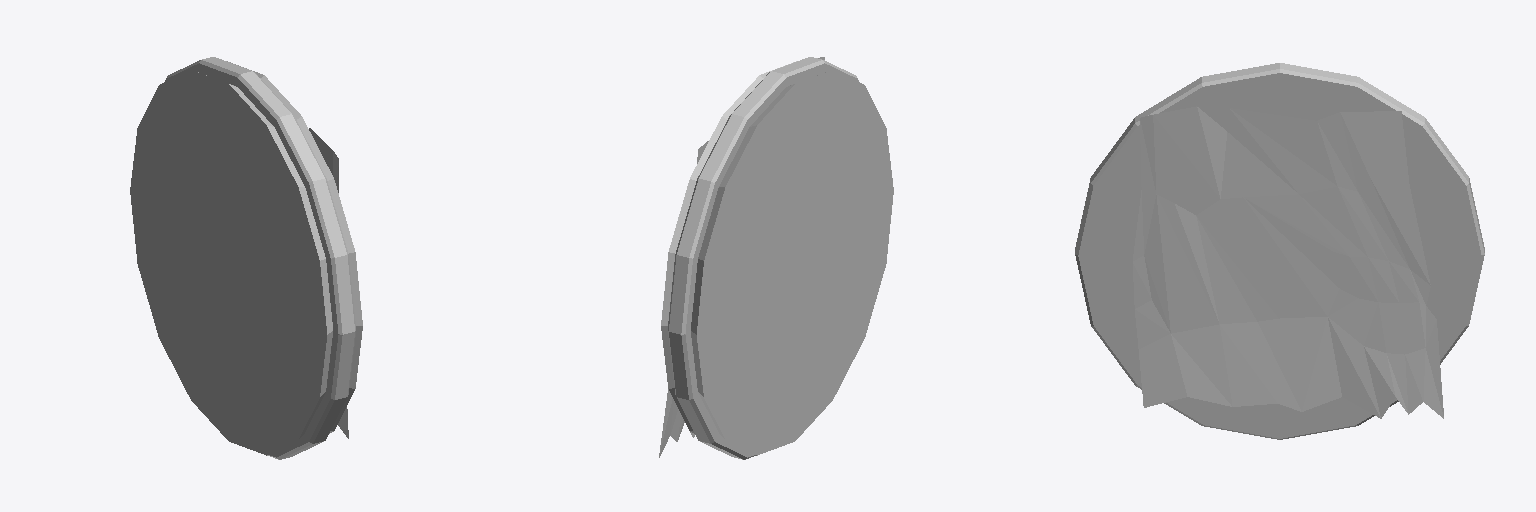
File: StatBoard.obj
The picture shows the model from 3 angles: view 1: azimuth 30°, elevation 25°; view 2: azimuth 150°, elevation 25°; view 3: azimuth 270°, elevation 25°; orthographic projection.
Visible parts, largest first — view 1: Dartboard; view 2: Dartboard; view 3: Dartboard.
Part boxes in pixels (left/top/right/bottom): Dartboard: left=130, top=57, right=362, bottom=459; Dartboard: left=659, top=57, right=893, bottom=459; Dartboard: left=1075, top=63, right=1484, bottom=439.
Size of the model in its own units: 0.3933 by 2.56 by 2.56.